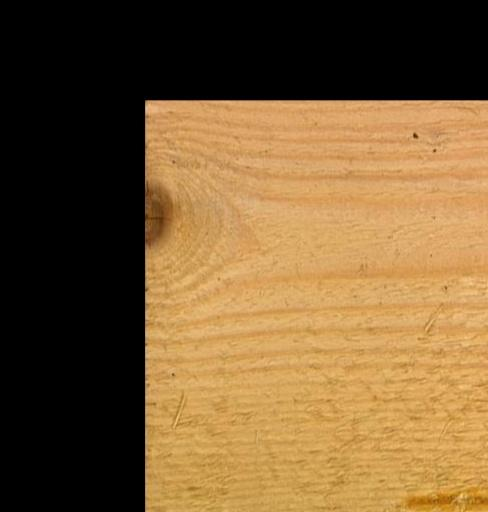sound_knot: (144, 177, 172, 250)
